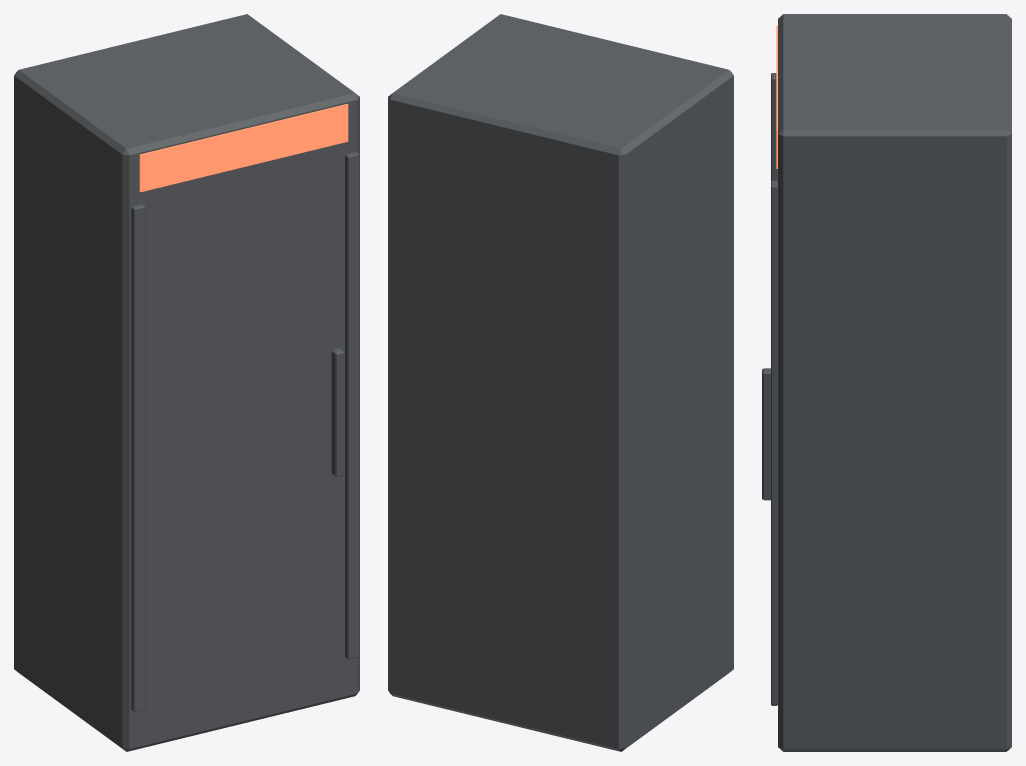
File: drinks_cooler.glb
The picture shows the model from 3 angles, left to right: view 1: azimuth 30°, elevation 25°; view 2: azimuth 150°, elevation 25°; view 3: azimuth 270°, elevation 25°; orthographic projection. The views are drawn at different scales.
Parts seen in each view (by area): view 1: drinks_cooler; view 2: drinks_cooler; view 3: drinks_cooler.
Part boxes in pixels (bbox=[...]): drinks_cooler: bbox=[14, 14, 359, 751]; drinks_cooler: bbox=[388, 14, 733, 751]; drinks_cooler: bbox=[762, 14, 1011, 751].
Size of the model in its own units: 0.8 by 1.94 by 0.705.
